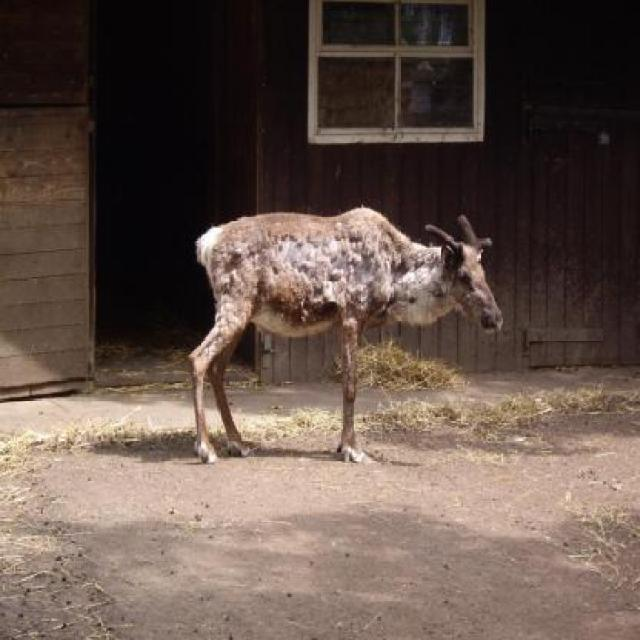Deer: (186, 214, 502, 461)
